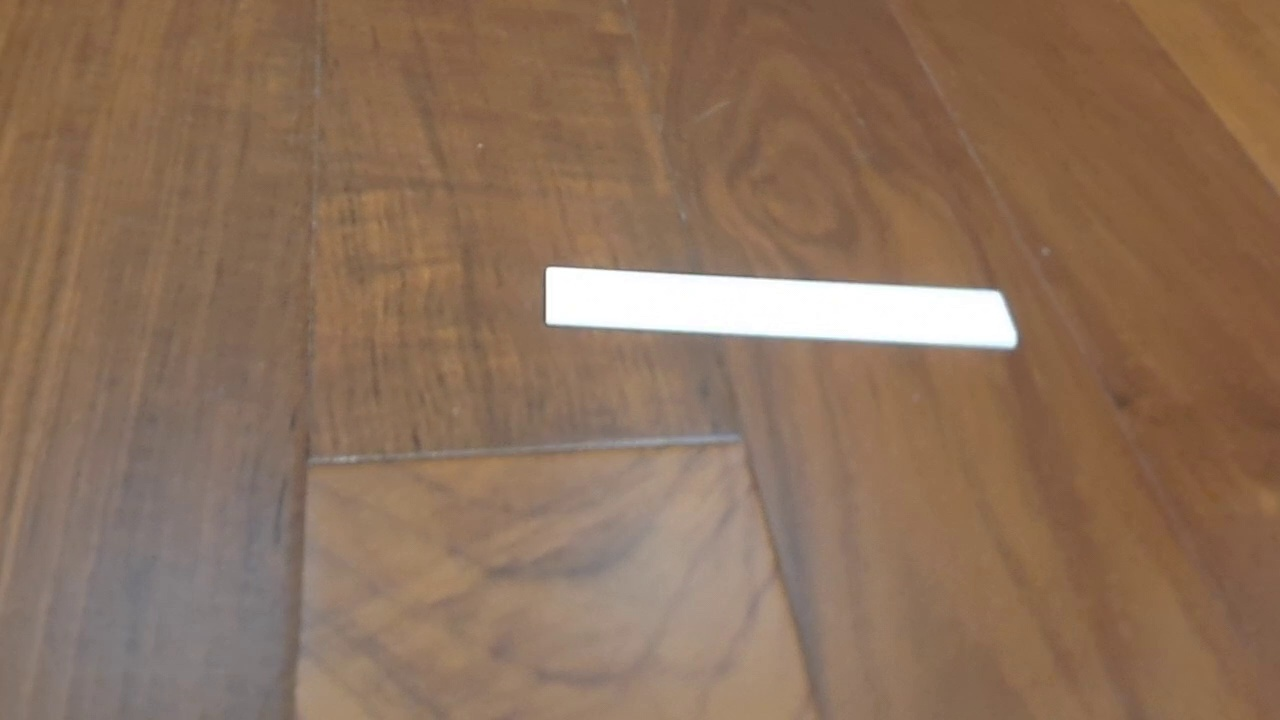ruler: (543, 265, 1018, 351)
